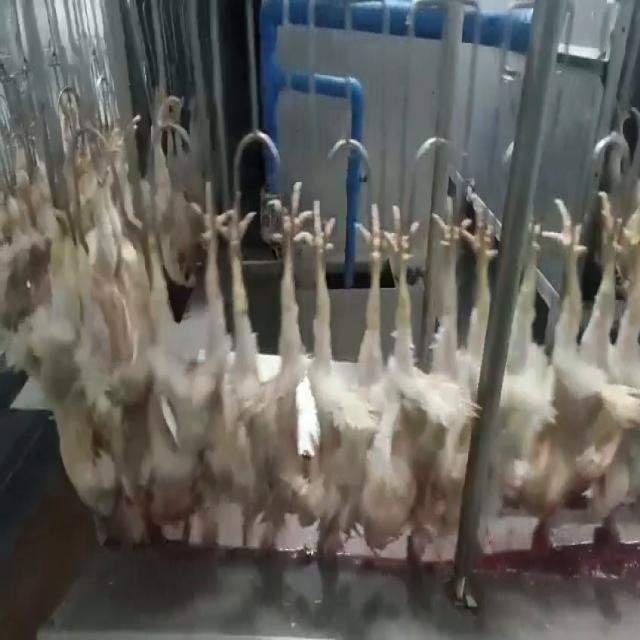chicken: (377, 201, 490, 577), (126, 170, 223, 541), (517, 185, 608, 558), (301, 192, 390, 567), (223, 178, 307, 562), (594, 189, 639, 557)
